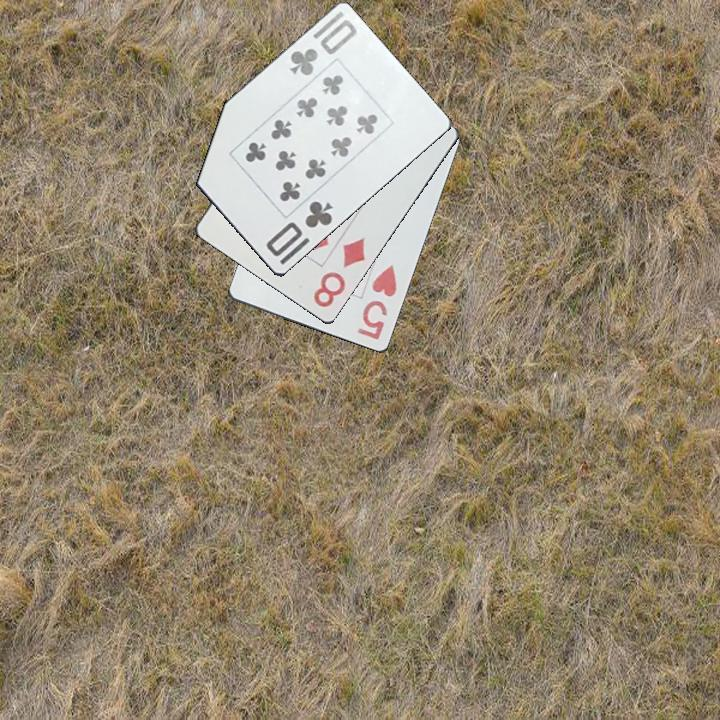5h: (354, 261, 400, 343)
8d: (309, 234, 368, 311)
Tc: (282, 8, 362, 79), (262, 196, 336, 260)
